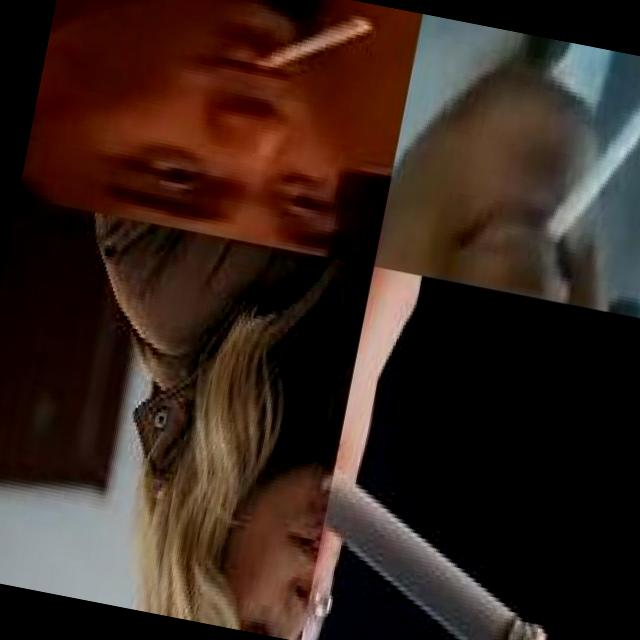smoke: (300, 411, 586, 640), (526, 51, 640, 280), (242, 0, 374, 95)
